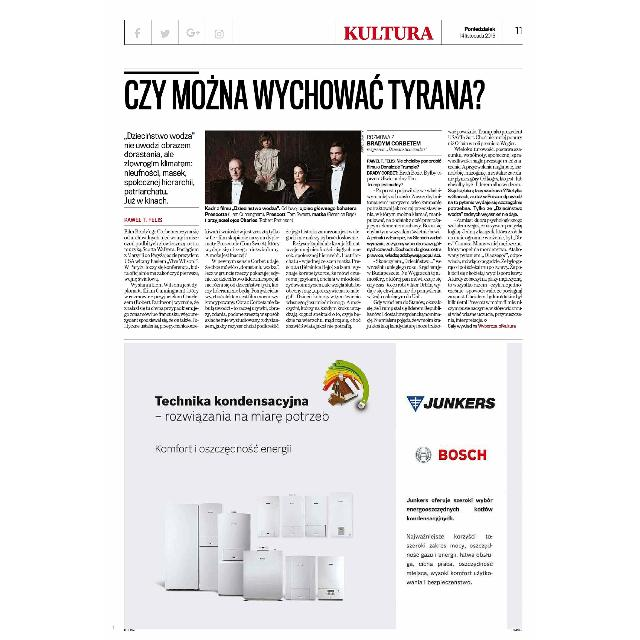article: (124, 74, 528, 334)
